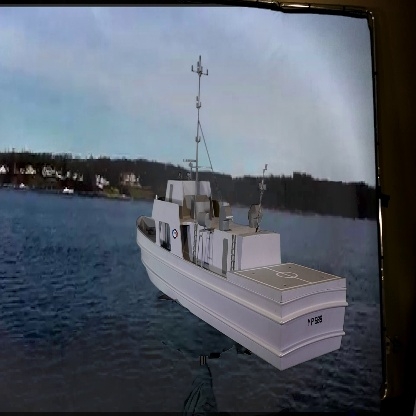YP689: (135, 57, 348, 373)
